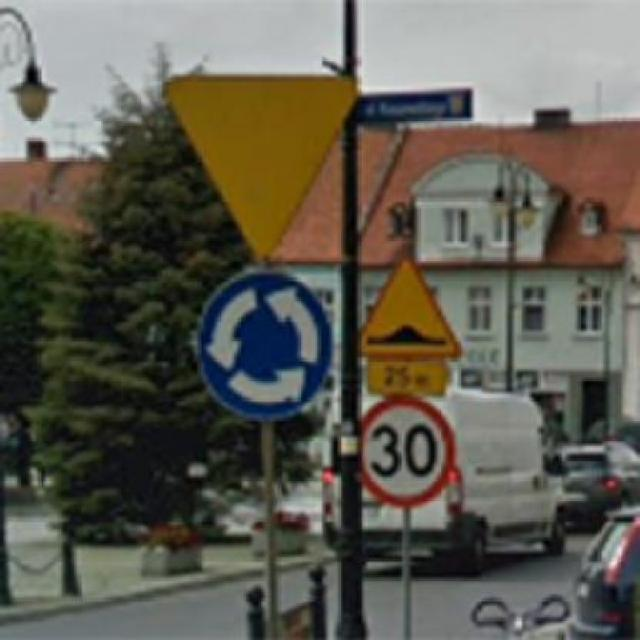Ustap pierwszenstwa: (162, 71, 361, 262)
